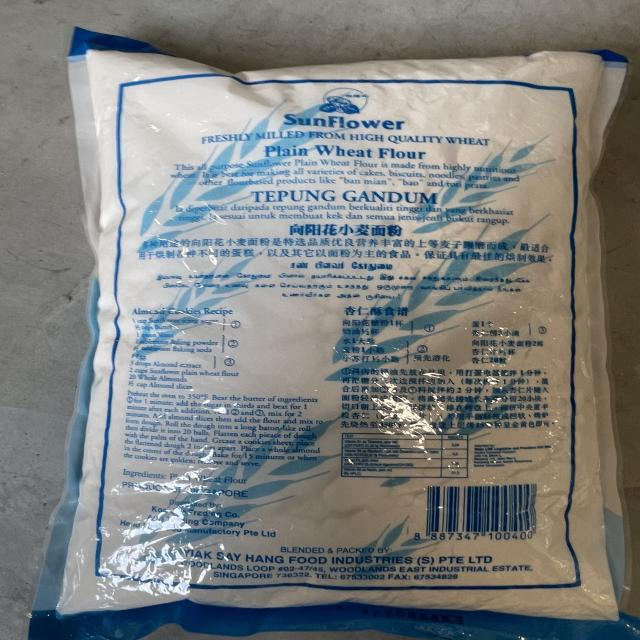object_name: (86, 52, 597, 632)
